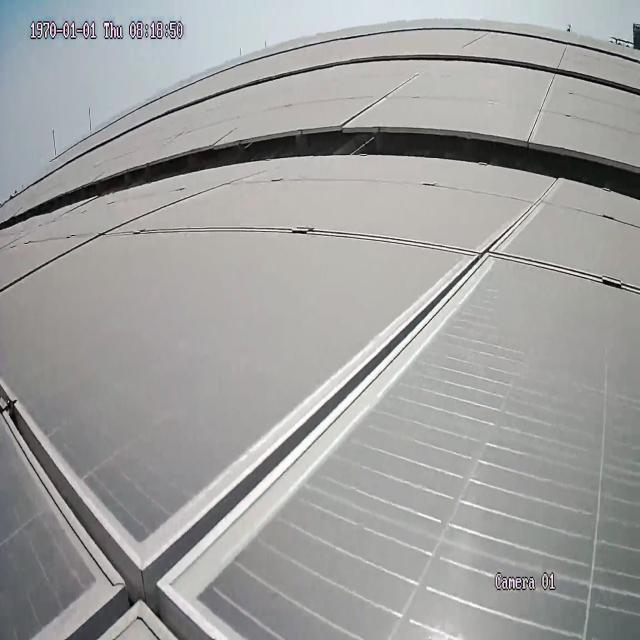interior panel: (0, 186, 552, 640), (346, 69, 432, 120), (526, 77, 560, 138)
outher panel: (2, 123, 640, 237)
